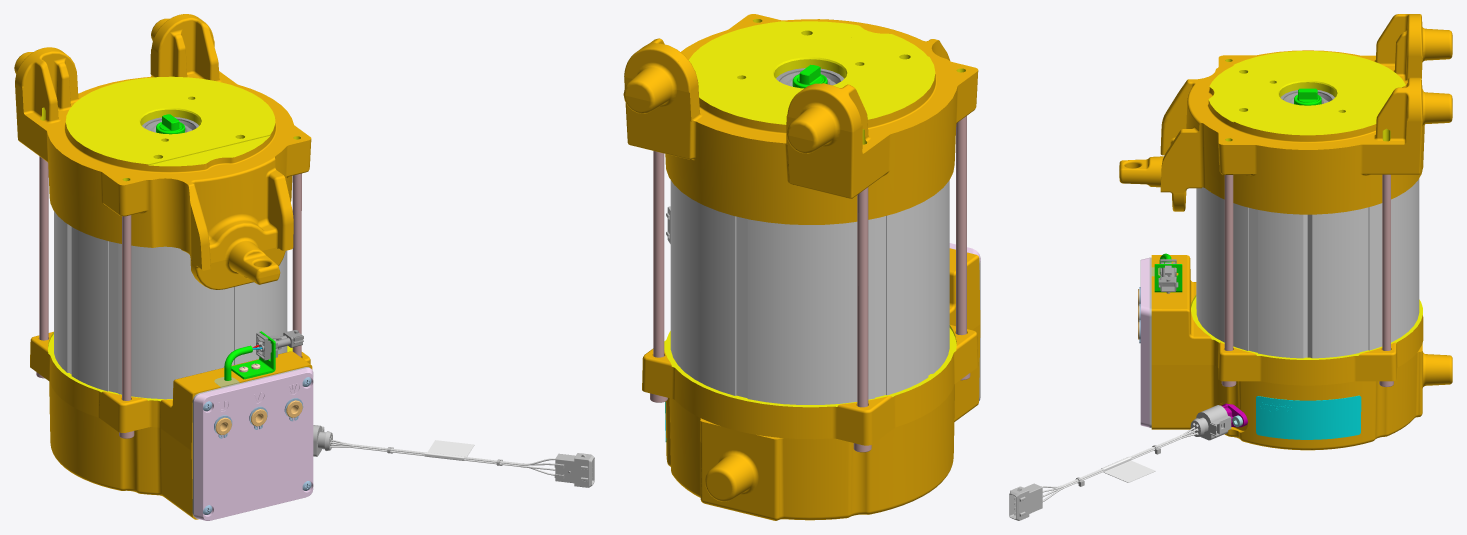
Rendered from 1012053_l_compression.glb.
3 renders of one model, left to right at view 1: azimuth 30°, elevation 25°; view 2: azimuth 150°, elevation 25°; view 3: azimuth 270°, elevation 25°, orthographic. The views are drawn at different scales.
Visible parts, largest first — view 1: (00001620) 2004149/d - Štít pohonu, (00001270) 2002405/d - Stator, (00003625) 3026132/c - Štít ložiskový, (00004470) 4010014/i - Část vývodky, MODEL (×3), (00027559) 35010352/- - Redukce KOMBI - BERU, (00027563) 35010352_002/- - Konektor, (00005318) 5513011/- - KONEKTOR, (00006234) 6007026/a - Držák; view 2: (00001620) 2004149/d - Štít pohonu, (00001270) 2002405/d - Stator, (00003625) 3026132/c - Štít ložiskový, MODEL (×4), (00002943) 3003357/d - Hřídel; view 3: (00001620) 2004149/d - Štít pohonu, (00001270) 2002405/d - Stator, (00003625) 3026132/c - Štít ložiskový, (00005747) 5519695/e - Typový štítek, MODEL (×2), (00004470) 4010014/i - Část vývodky, (00027559) 35010352/- - Redukce KOMBI - BERU, (00027562) 35010352_001/- - Konektor, (00027563) 35010352_002/- - Konektor, (00005318) 5513011/- - KONEKTOR, (00005211) 5051005/b - Těsnění svorkovnice.
Part boxes in pixels (<box>): (00001620) 2004149/d - Štít pohonu: <box>14,14,311,289</box>; (00001270) 2002405/d - Stator: <box>54,211,287,399</box>; (00003625) 3026132/c - Štít ložiskový: <box>30,331,312,519</box>; (00004470) 4010014/i - Část vývodky: <box>194,368,313,520</box>; MODEL (×3): <box>36,156,301,438</box>; (00027559) 35010352/- - Redukce KOMBI - BERU: <box>330,439,555,475</box>; (00027563) 35010352_002/- - Konektor: <box>554,453,594,487</box>; (00005318) 5513011/- - KONEKTOR: <box>256,330,303,360</box>; (00006234) 6007026/a - Držák: <box>231,331,275,379</box>; (00001620) 2004149/d - Štít pohonu: <box>623,14,978,224</box>; (00001270) 2002405/d - Stator: <box>670,180,949,404</box>; (00003625) 3026132/c - Štít ložiskový: <box>642,248,980,520</box>; MODEL (×4): <box>650,68,970,452</box>; (00002943) 3003357/d - Hřídel: <box>792,64,827,88</box>; (00001620) 2004149/d - Štít pohonu: <box>1119,14,1452,214</box>; (00001270) 2002405/d - Stator: <box>1196,178,1419,358</box>; (00003625) 3026132/c - Štít ložiskový: <box>1151,255,1452,450</box>; (00005747) 5519695/e - Typový štítek: <box>1256,395,1361,439</box>; MODEL (×2): <box>1221,174,1393,387</box>; (00004470) 4010014/i - Část vývodky: <box>1140,257,1149,427</box>; (00027559) 35010352/- - Redukce KOMBI - BERU: <box>1041,427,1198,501</box>; (00027562) 35010352_001/- - Konektor: <box>1190,405,1231,440</box>; (00027563) 35010352_002/- - Konektor: <box>1009,483,1042,520</box>; (00005318) 5513011/- - KONEKTOR: <box>1158,259,1178,293</box>; (00005211) 5051005/b - Těsnění svorkovnice: <box>1149,257,1151,427</box>.
Bounding box in the file's own units: 0.3739 × 0.351 × 0.3978.
